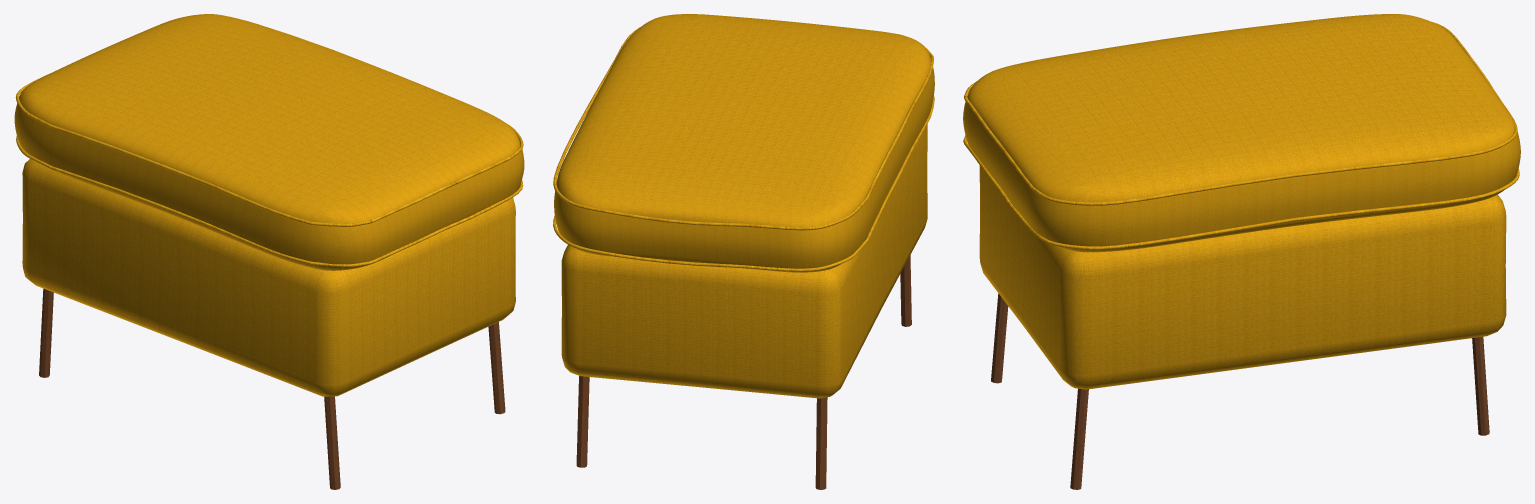
File: ottoman.glb
3 renders of one model, left to right at view 1: azimuth 30°, elevation 25°; view 2: azimuth 150°, elevation 25°; view 3: azimuth 270°, elevation 25°, orthographic. The views are drawn at different scales.
Parts seen in each view (by area): view 1: Main body.001; view 2: Main body.001; view 3: Main body.001.
Boxes of the visible parts, x1,y1,x2,y2 form: Main body.001: (14, 14, 524, 489); Main body.001: (553, 14, 934, 489); Main body.001: (963, 14, 1520, 489).
Bounding box in the file's own units: 0.5645 × 0.4485 × 0.7138.
Materials: 2 (2 with a texture image).
